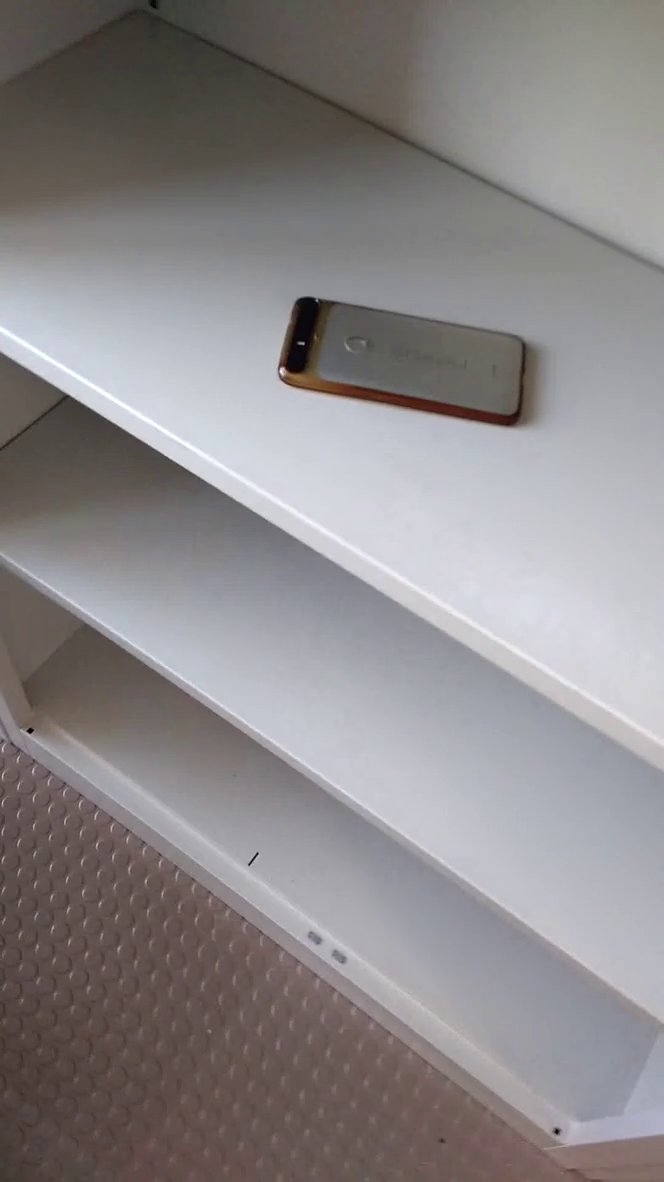phone: (264, 281, 547, 441)
